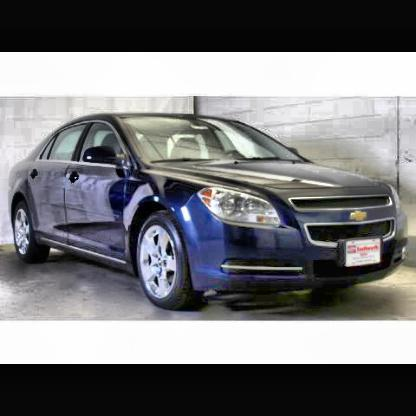Chevrolet Malibu Hybrid Sedan 2010: (8, 113, 411, 311)
